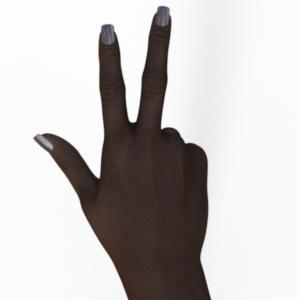scissors: (35, 6, 210, 300)
